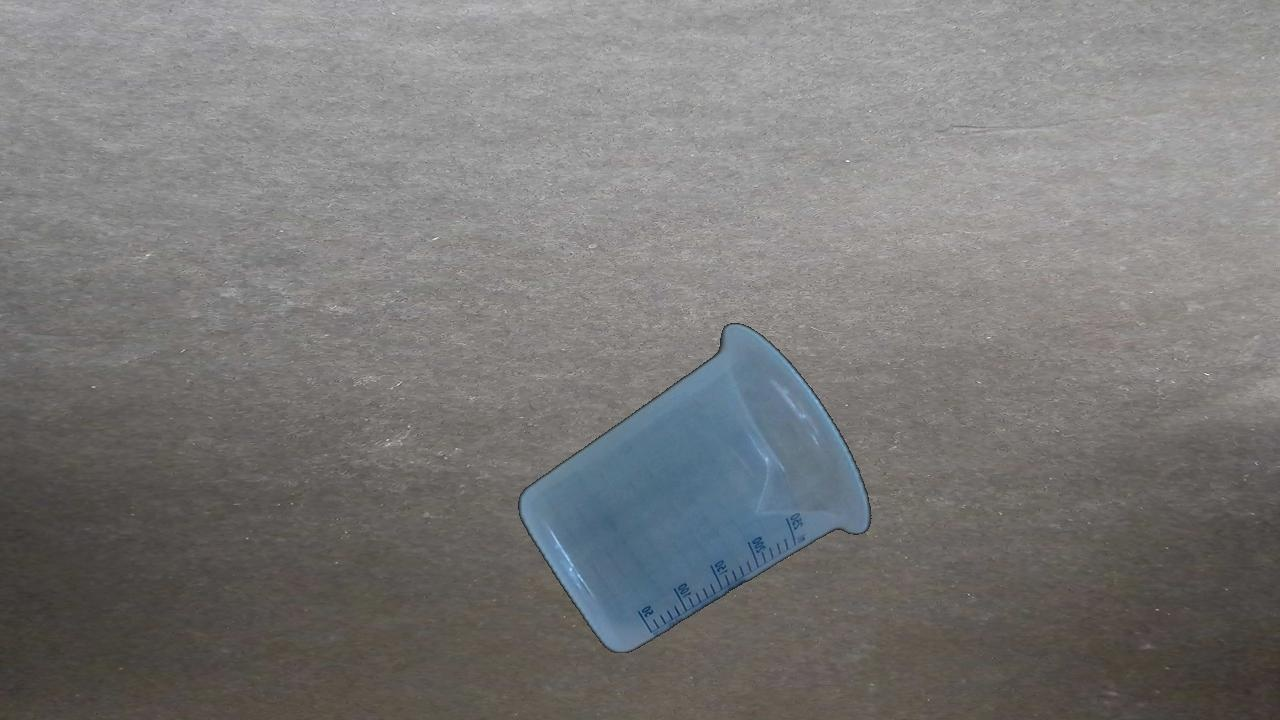cup: (516, 320, 872, 656)
